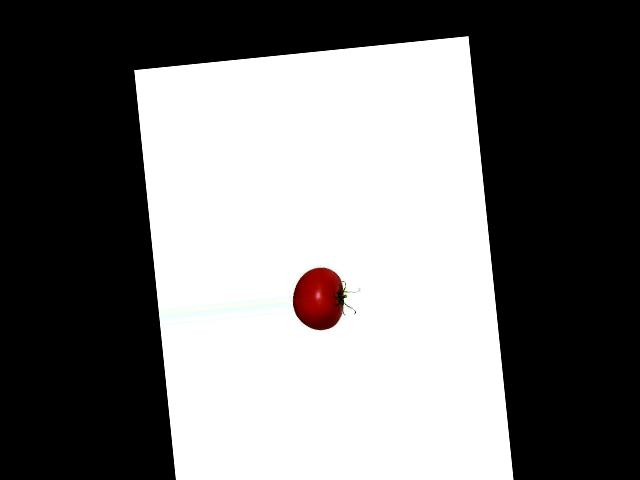tomato: (290, 265, 346, 331)
